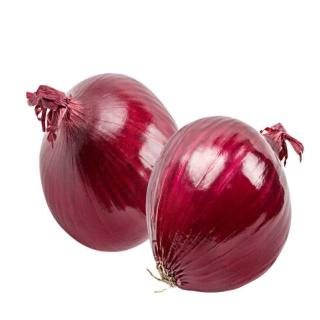Bawang Merah: (144, 115, 306, 297)
